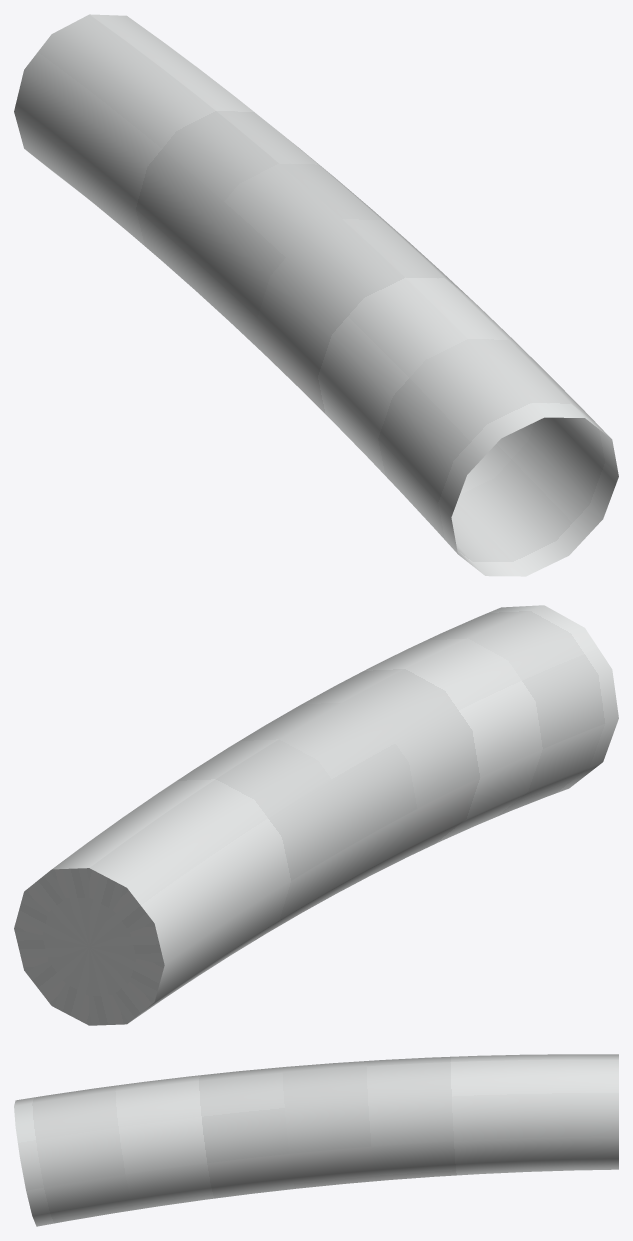
Rendered from luminairearm_laupsweep10ft_c7.obj.
3 views of the same model, one above another, from view 1: azimuth 30°, elevation 25°; view 2: azimuth 150°, elevation 25°; view 3: azimuth 270°, elevation 25° (orthographic). The views are drawn at different scales.
Visible parts, largest first — view 1: luminairearm_laupsweep10ft_c7; view 2: luminairearm_laupsweep10ft_c7; view 3: luminairearm_laupsweep10ft_c7.
Part boxes in pixels (bbox=[...]): luminairearm_laupsweep10ft_c7: bbox=[14, 14, 618, 576]; luminairearm_laupsweep10ft_c7: bbox=[14, 605, 618, 1025]; luminairearm_laupsweep10ft_c7: bbox=[14, 1054, 618, 1226].
Size of the model in its own units: 0.1946 by 0.2692 by 0.9152.
